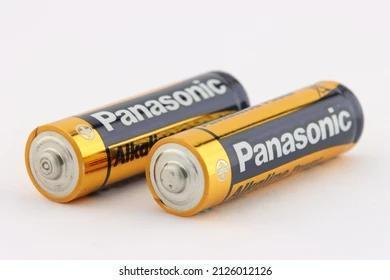AA: (23, 68, 252, 207), (143, 77, 367, 219)
